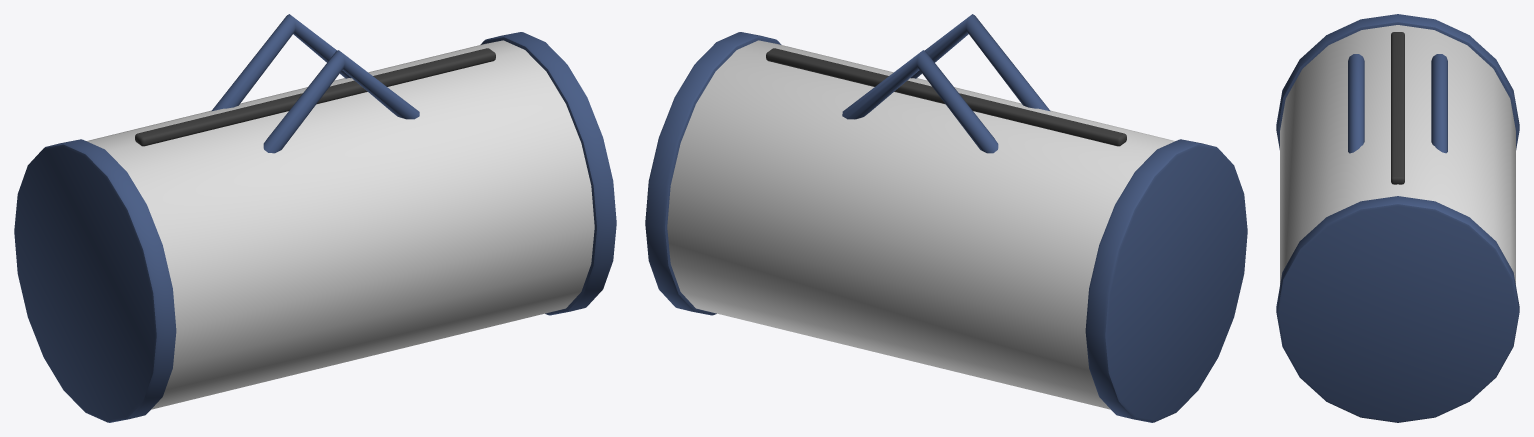
File: kitbag.glb
3 views of the same model, side by side, from view 1: azimuth 30°, elevation 25°; view 2: azimuth 150°, elevation 25°; view 3: azimuth 270°, elevation 25° (orthographic). The views are drawn at different scales.
Parts seen in each view (by area): view 1: body, cap-1, cap1, zip, handle1, handle-1; view 2: body, cap-1, cap1, zip, handle-1, handle1; view 3: cap1, body, cap-1, zip, handle-1, handle1.
Part boxes in pixels (x1,y1,x2,y2): body: [86, 40, 594, 409]; cap-1: [14, 139, 176, 422]; cap1: [480, 32, 616, 315]; zip: [135, 48, 495, 146]; handle1: [263, 50, 419, 153]; handle-1: [211, 14, 350, 111]; body: [667, 40, 1175, 409]; cap-1: [1085, 139, 1247, 422]; cap1: [645, 32, 781, 315]; zip: [766, 48, 1126, 146]; handle-1: [842, 50, 998, 153]; handle1: [911, 14, 1050, 111]; cap1: [1276, 196, 1519, 422]; body: [1280, 25, 1515, 284]; cap-1: [1276, 14, 1519, 149]; zip: [1391, 32, 1404, 184]; handle-1: [1431, 54, 1447, 153]; handle1: [1348, 54, 1364, 153].
Bounding box in the file's own units: 0.65 × 0.4364 × 0.35.
